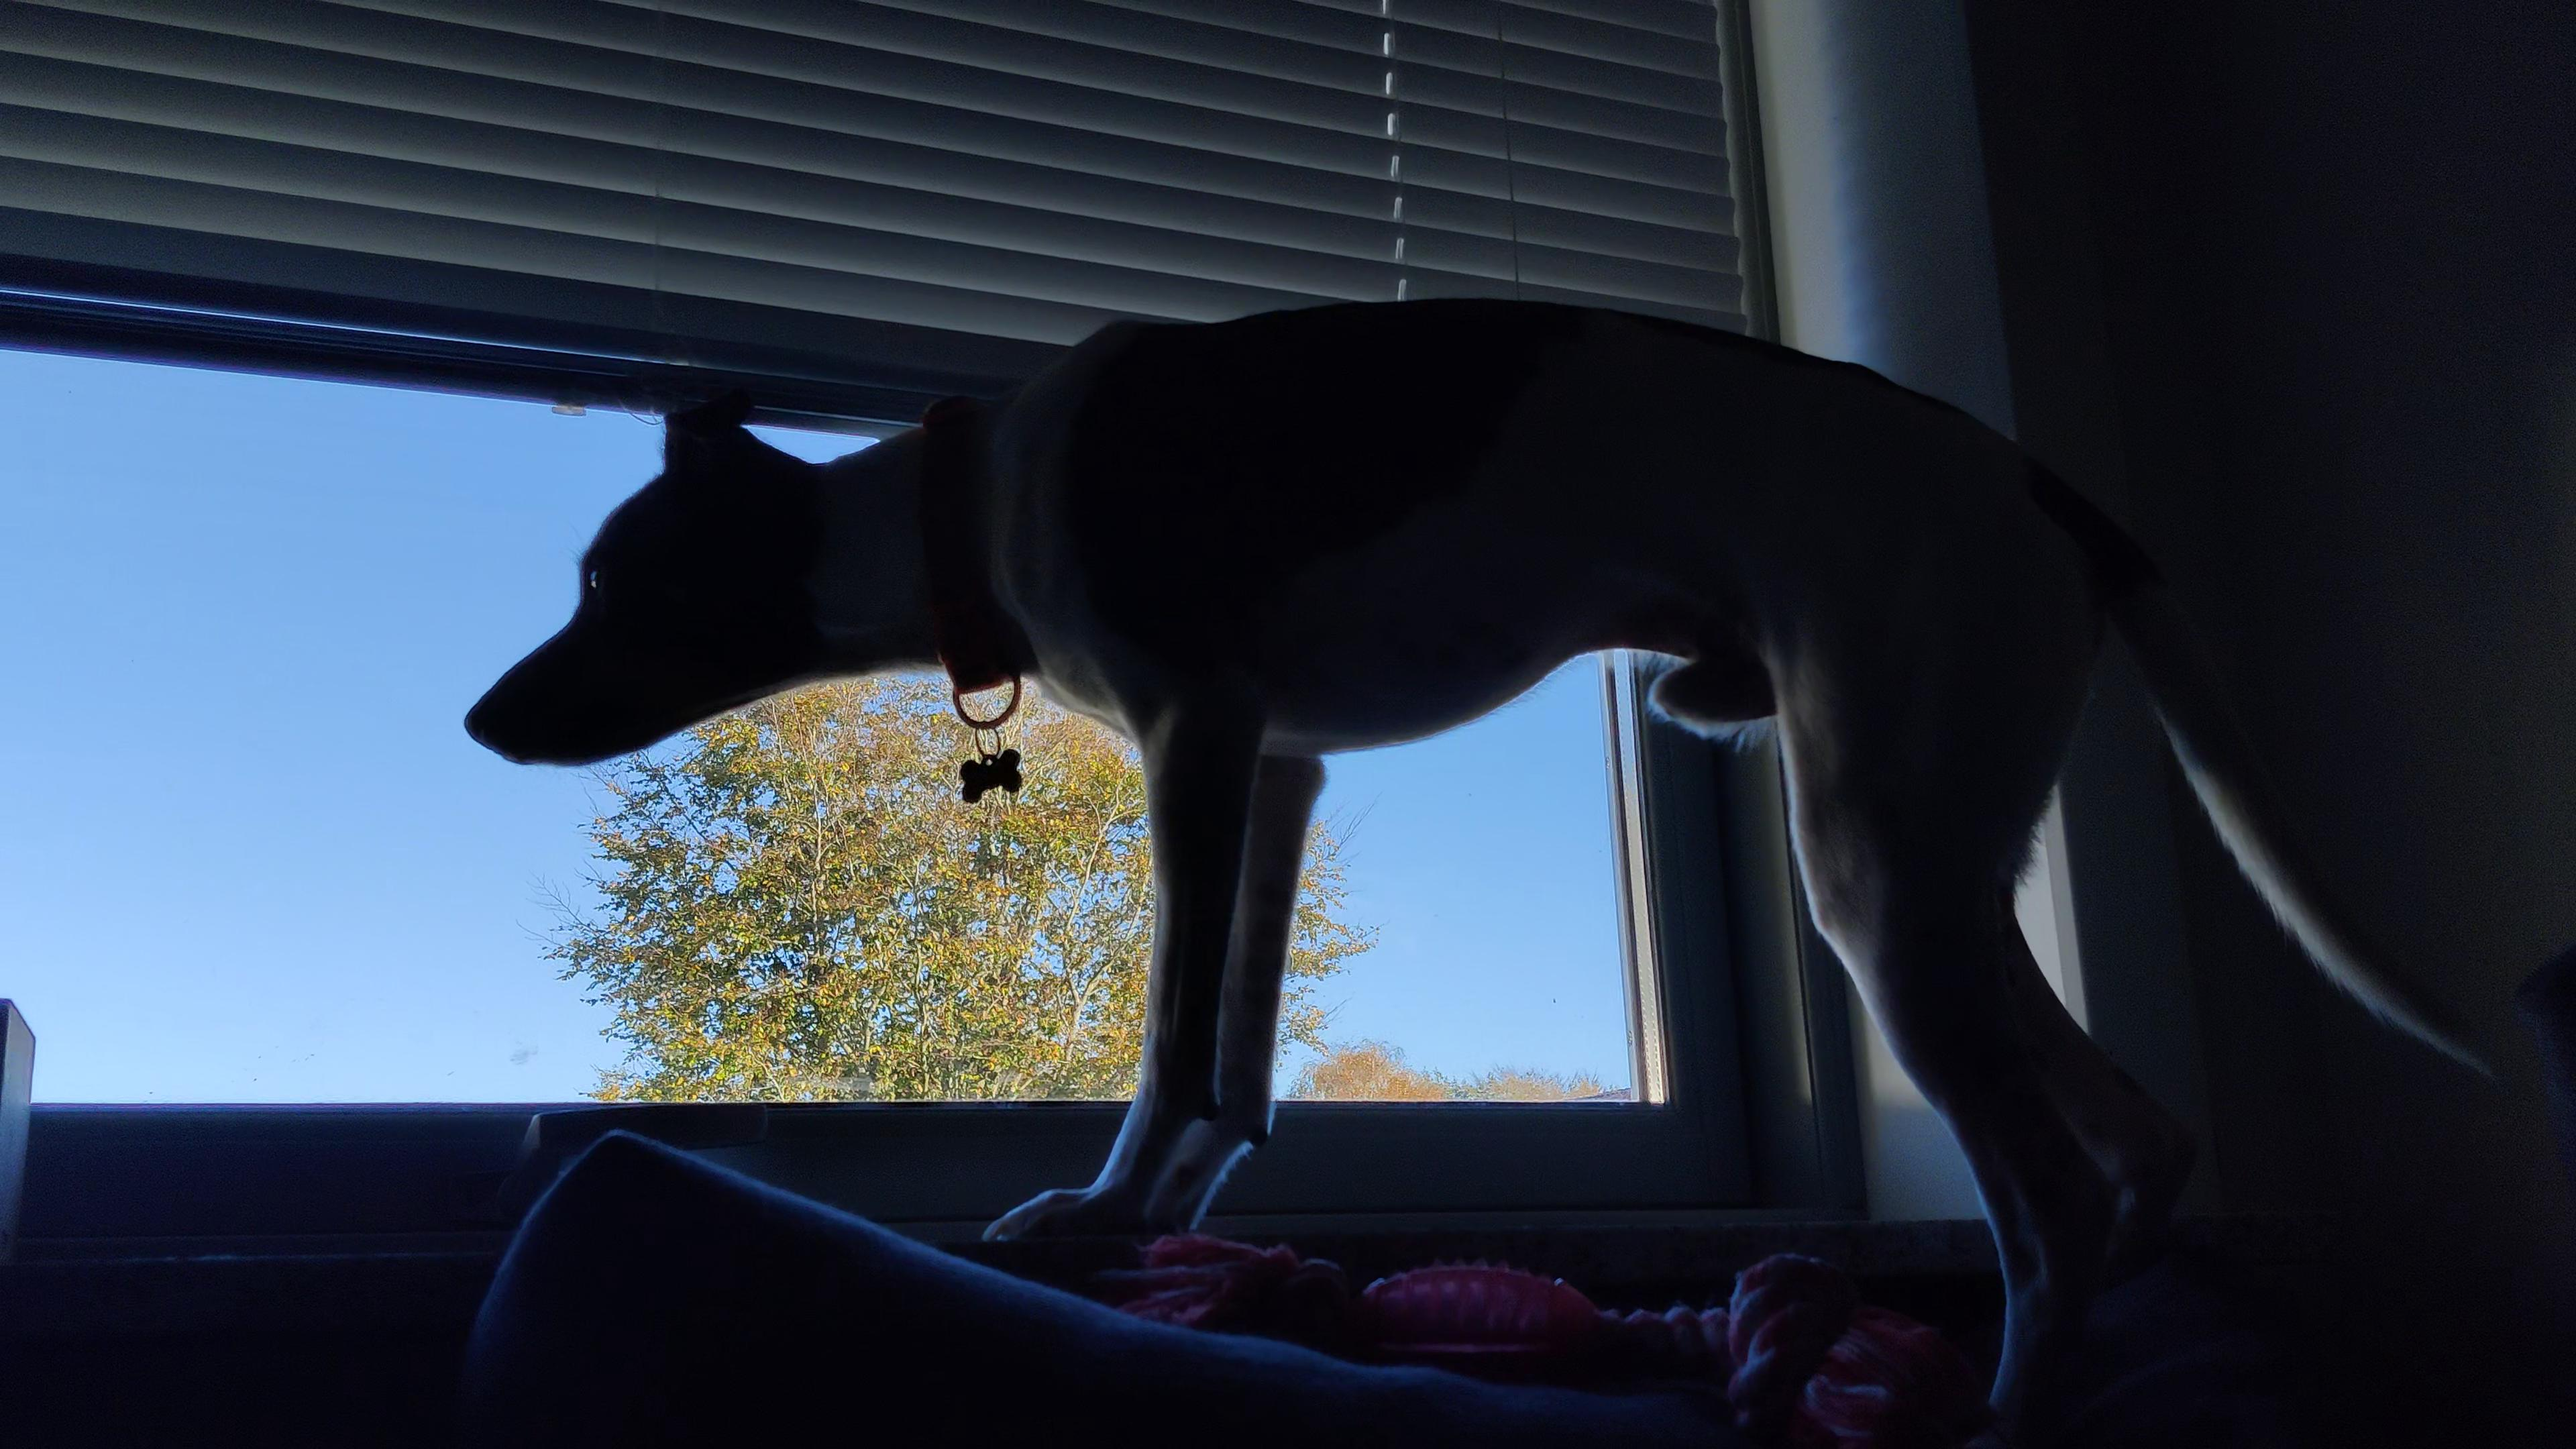Dog: (458, 285, 2511, 1405)
